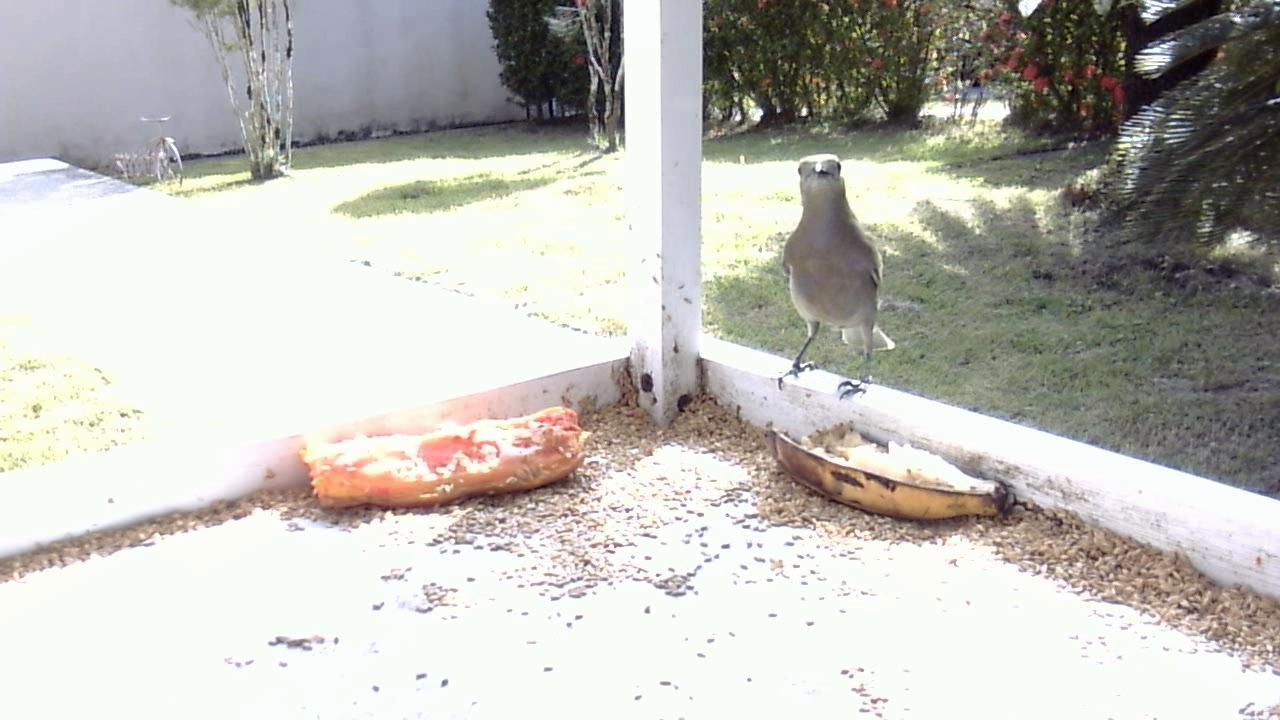sanhaco_do_coqueiro: (772, 149, 898, 403)
